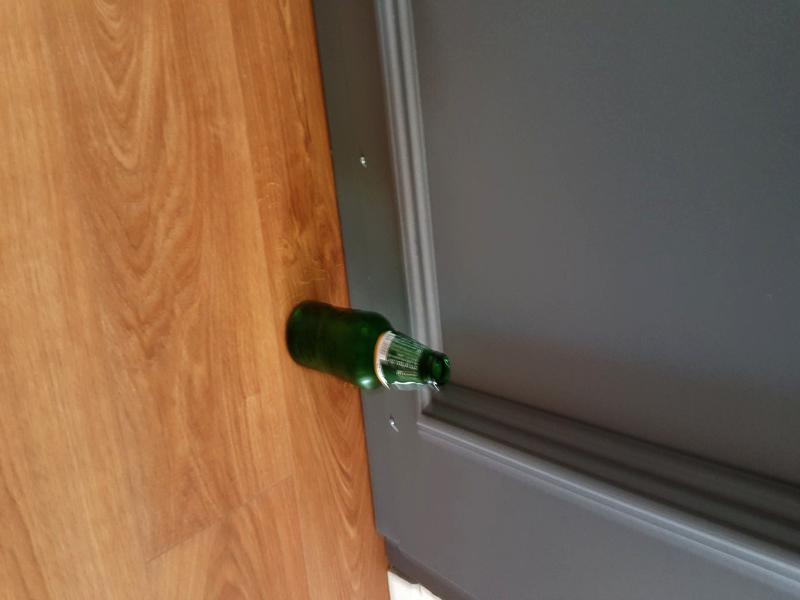Beer: (286, 303, 447, 387)
